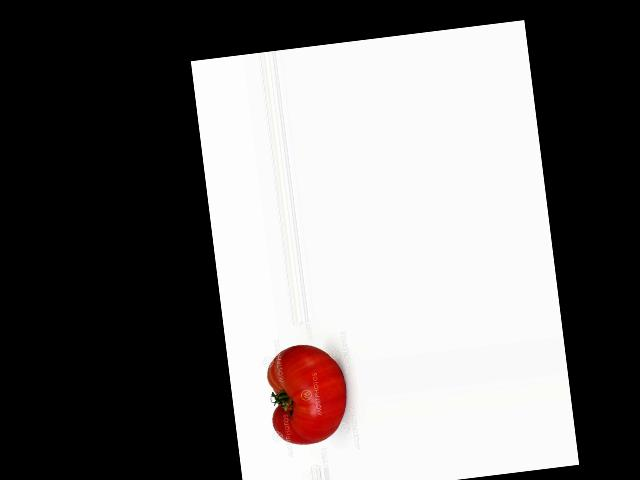tomato: (263, 339, 351, 447)
